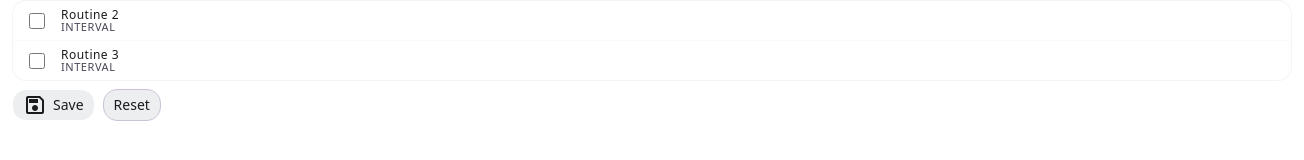
DependsOnEditor › Reset button reverts toggle to initial state
This screenshot has width=1304, height=160.
Click the checkbox named "Depends on Routine 2": (37, 20) 29,12 -> 45,28
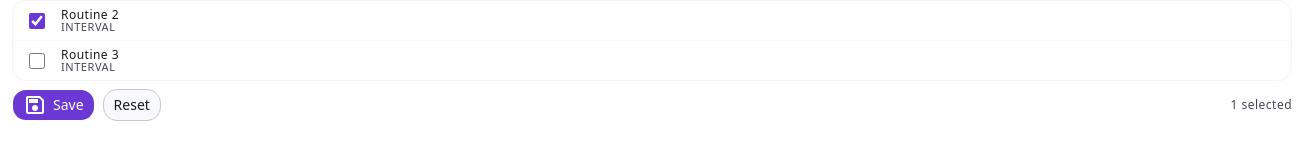
Click the button with aria-label "Discard dependency changes": (132, 105) 103,89 -> 161,121
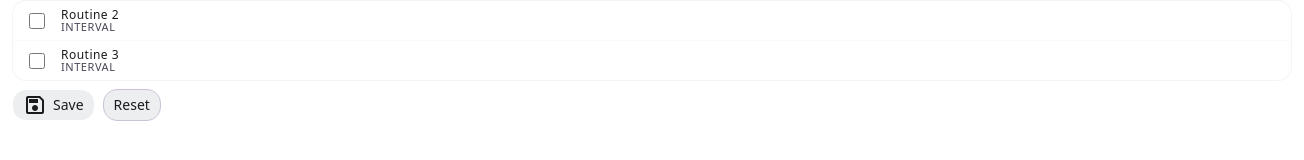
Expected: the checkbox named "Depends on Routine 2" is not checked, 29,12 -> 45,28
Expected: the button with aria-label "Save dependencies" is disabled, 12,89 -> 95,121
